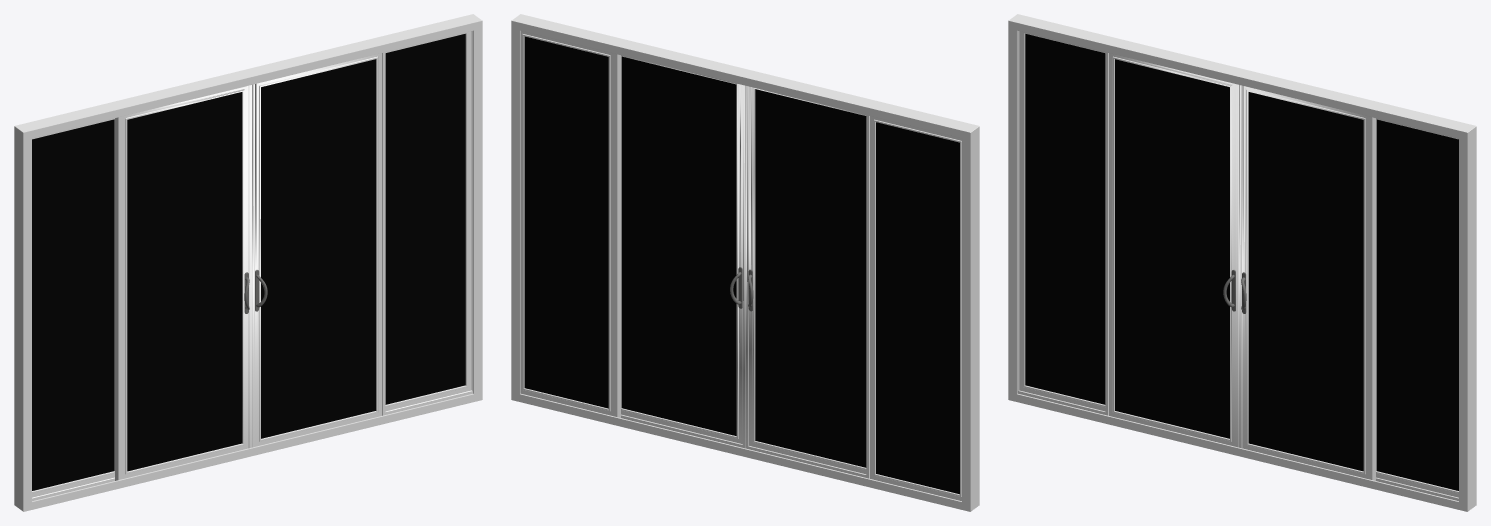
The model's file is SlidingDoor.fbx.
3 views of the same model, side by side, from view 1: azimuth 30°, elevation 25°; view 2: azimuth 150°, elevation 25°; view 3: azimuth 330°, elevation 25° (orthographic).
Parts seen in each view (by area): view 1: SlidingDoor_Frame, SlidingDoor_01, SlidingDoor_02; view 2: SlidingDoor_Frame, SlidingDoor_02, SlidingDoor_01; view 3: SlidingDoor_Frame, SlidingDoor_02, SlidingDoor_01.
Part boxes in pixels (bbox=[...]): SlidingDoor_Frame: bbox=[14, 14, 482, 511]; SlidingDoor_01: bbox=[115, 85, 251, 480]; SlidingDoor_02: bbox=[252, 52, 385, 447]; SlidingDoor_Frame: bbox=[511, 14, 979, 511]; SlidingDoor_02: bbox=[621, 55, 745, 448]; SlidingDoor_01: bbox=[745, 86, 866, 477]; SlidingDoor_Frame: bbox=[1008, 14, 1476, 511]; SlidingDoor_02: bbox=[1239, 85, 1375, 480]; SlidingDoor_01: bbox=[1105, 52, 1238, 447].
Bounding box in the file's own units: 2.96 × 2.33 × 0.1449.
